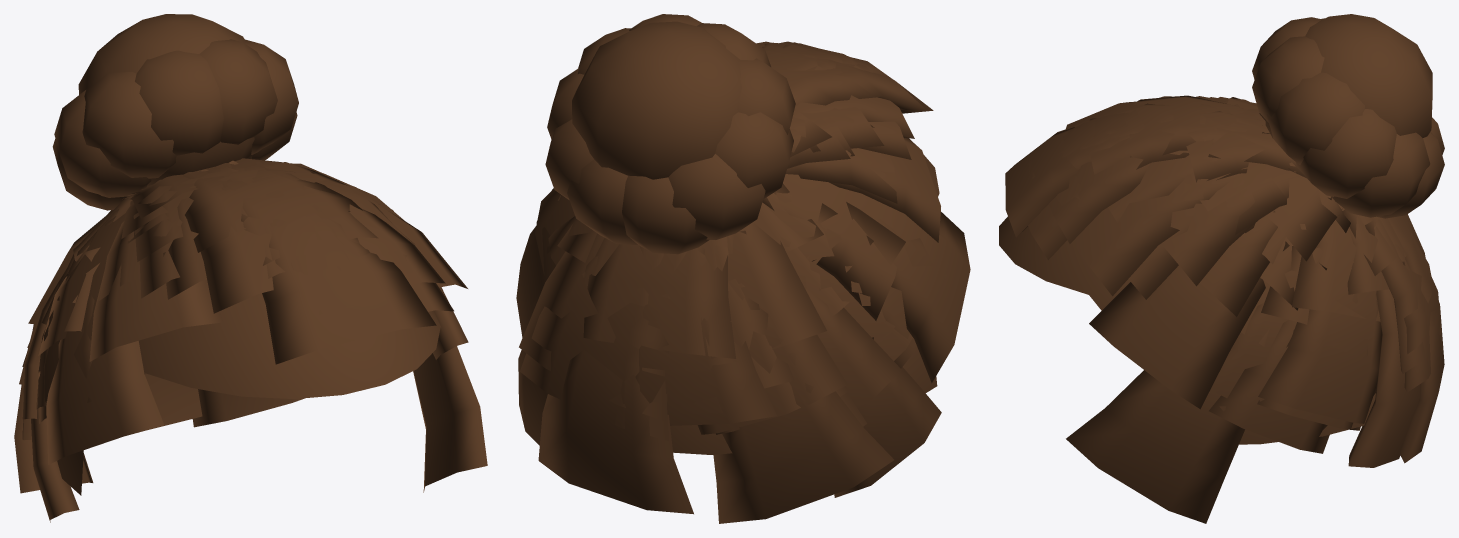
File: bun_f.glb
The picture shows the model from 3 angles, left to right: view 1: azimuth 30°, elevation 25°; view 2: azimuth 150°, elevation 25°; view 3: azimuth 270°, elevation 25°; orthographic projection. The views are drawn at different scales.
Parts seen in each view (by area): view 1: bun_f; view 2: bun_f; view 3: bun_f.
Part boxes in pixels (x1=…): bun_f: x1=14, y1=14, x2=487, y2=522; bun_f: x1=516, y1=14, x2=970, y2=523; bun_f: x1=999, y1=14, x2=1444, y2=523.
Size of the model in its own units: 0.1996 by 0.2248 by 0.2144.
